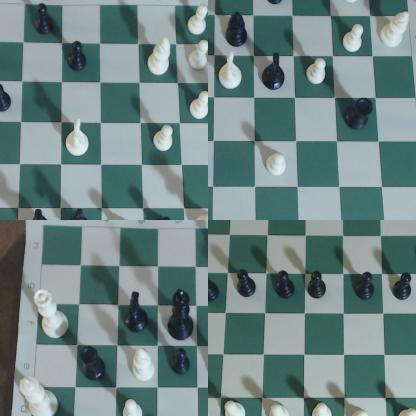black-bishop: (226, 10, 253, 52), (68, 208, 95, 220)
black-king: (166, 287, 196, 341)
black-knight: (125, 291, 151, 333), (264, 50, 287, 93), (27, 203, 58, 220)
black-pawn: (234, 264, 261, 302), (33, 1, 59, 38), (306, 268, 328, 308), (67, 39, 92, 74), (355, 270, 377, 306), (394, 269, 416, 305), (272, 270, 295, 303), (170, 346, 194, 376), (1, 84, 15, 115), (209, 269, 221, 305), (149, 213, 176, 220)
black-rook: (80, 344, 109, 384), (346, 98, 378, 133)
white-bishop: (379, 9, 413, 51), (147, 38, 176, 76), (132, 347, 157, 383)
white-king: (19, 376, 61, 416)
white-knight: (66, 120, 92, 159), (219, 53, 245, 92)
white-pawn: (342, 22, 369, 52), (152, 124, 176, 156), (306, 57, 330, 87), (189, 89, 208, 125), (224, 394, 254, 416), (265, 152, 290, 178), (189, 40, 208, 73), (154, 126, 176, 154), (307, 401, 341, 416), (263, 402, 298, 416), (122, 400, 145, 416), (347, 405, 380, 416), (390, 407, 416, 416)
white-queen: (34, 288, 70, 340), (187, 4, 208, 40)
